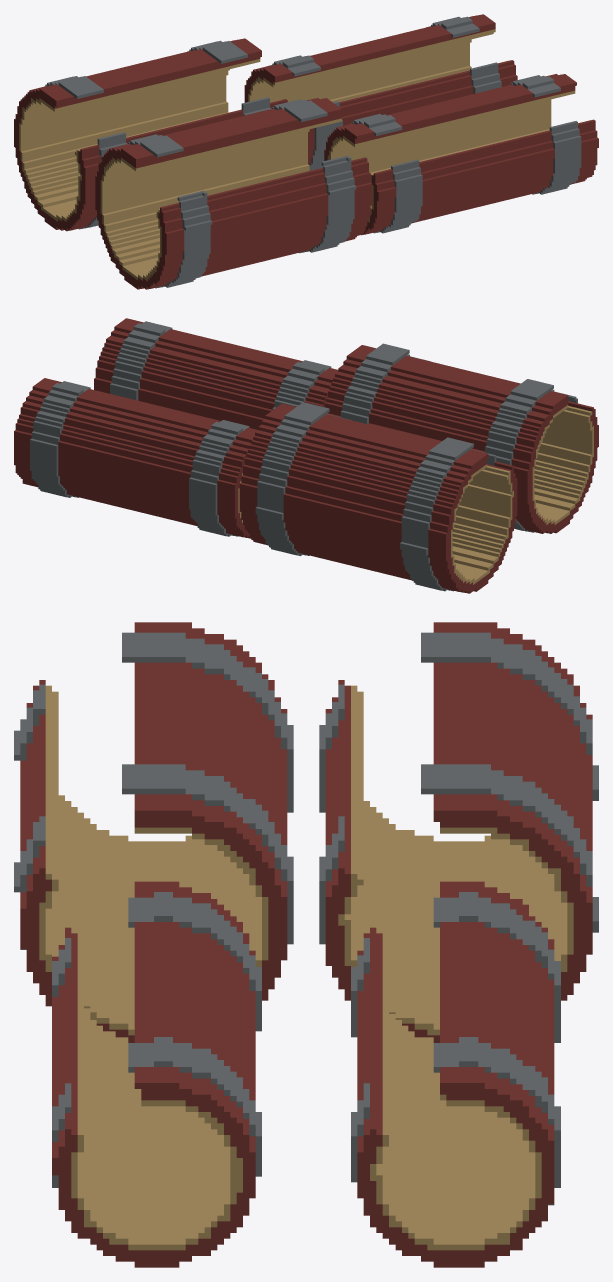
The model's file is carpet_legguards.glb.
3 views of the same model, one above another, from view 1: azimuth 30°, elevation 25°; view 2: azimuth 150°, elevation 25°; view 3: azimuth 270°, elevation 25° (orthographic). The views are drawn at different scales.
Parts seen in each view (by area): view 1: carpet_legguards:compound; view 2: carpet_legguards:compound; view 3: carpet_legguards:compound.
Part boxes in pixels (x1,y1,x2,y2): carpet_legguards:compound: (14,14,598,289); carpet_legguards:compound: (14,318,598,593); carpet_legguards:compound: (14,622,598,1267).
Size of the model in its own units: 0.6 by 0.176 by 0.368.
